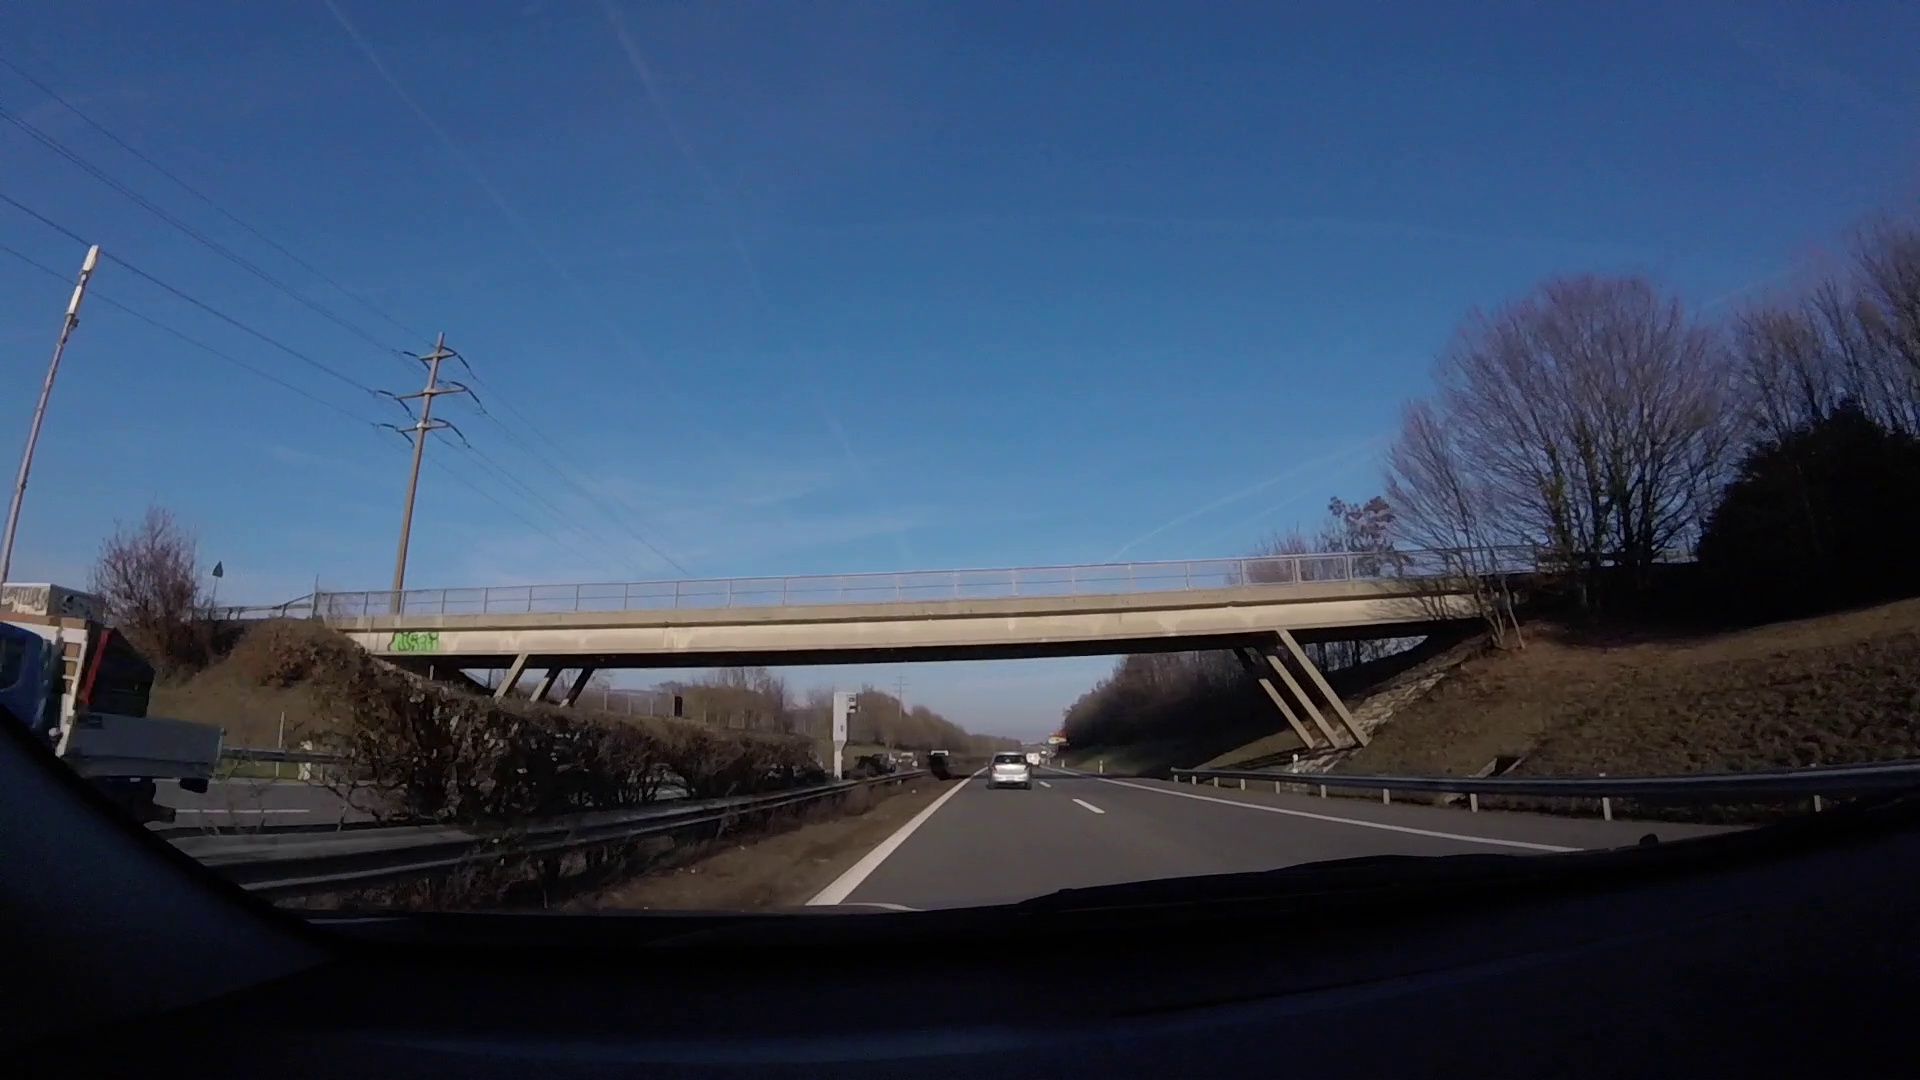radar: (829, 688, 864, 785)
